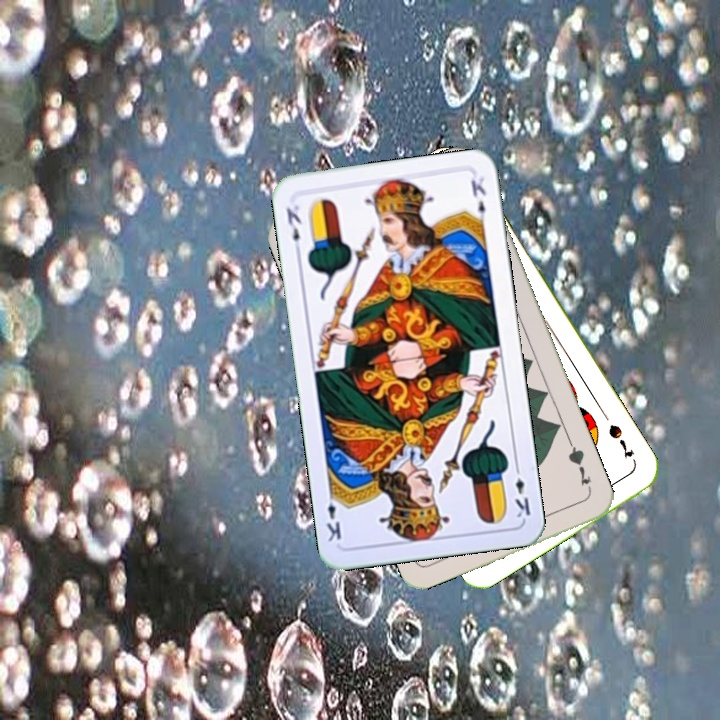EK: (511, 461, 533, 520), (282, 201, 304, 257)
G7: (564, 439, 594, 489)
S7: (604, 420, 636, 460)
